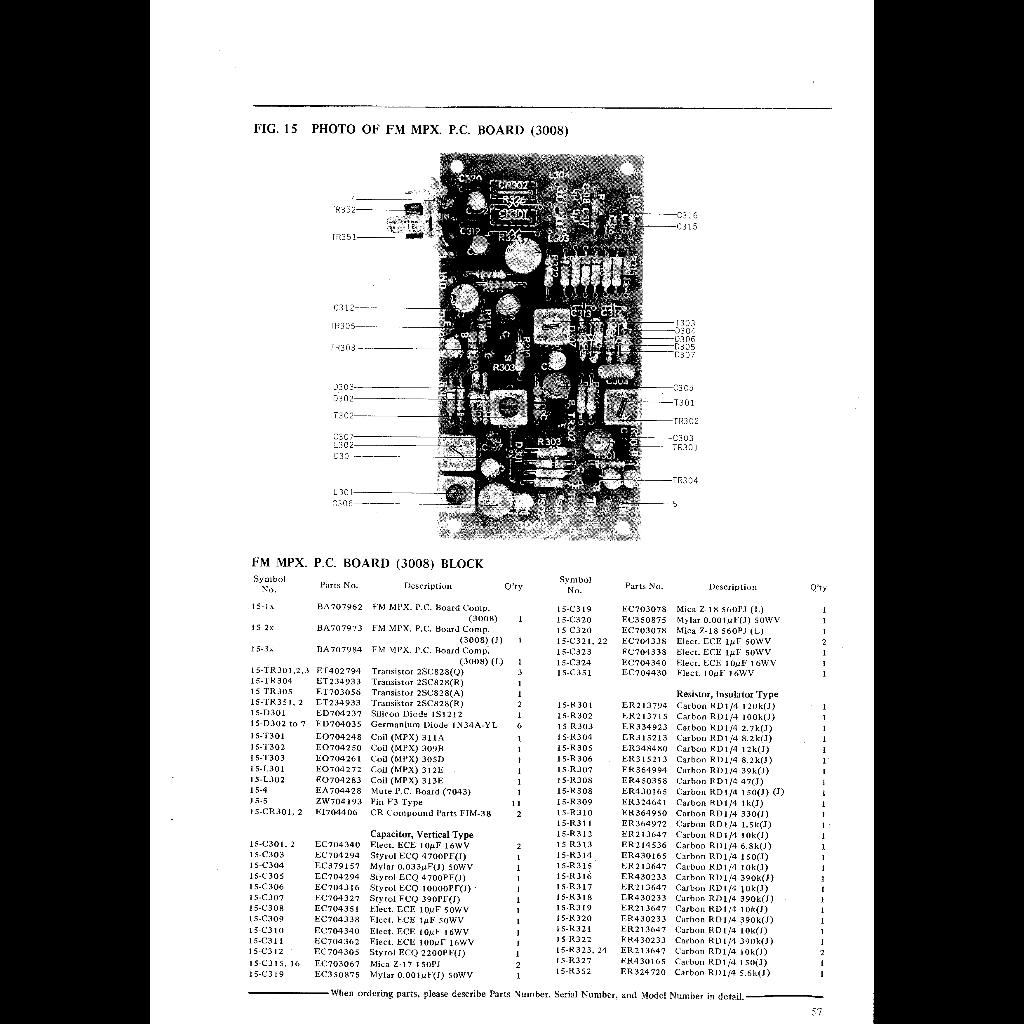Board: (328, 142, 722, 544)
Table: (243, 551, 843, 987)
